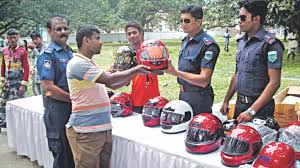helmet: (187, 112, 220, 155), (132, 39, 173, 73), (227, 123, 255, 167), (160, 95, 191, 134)
